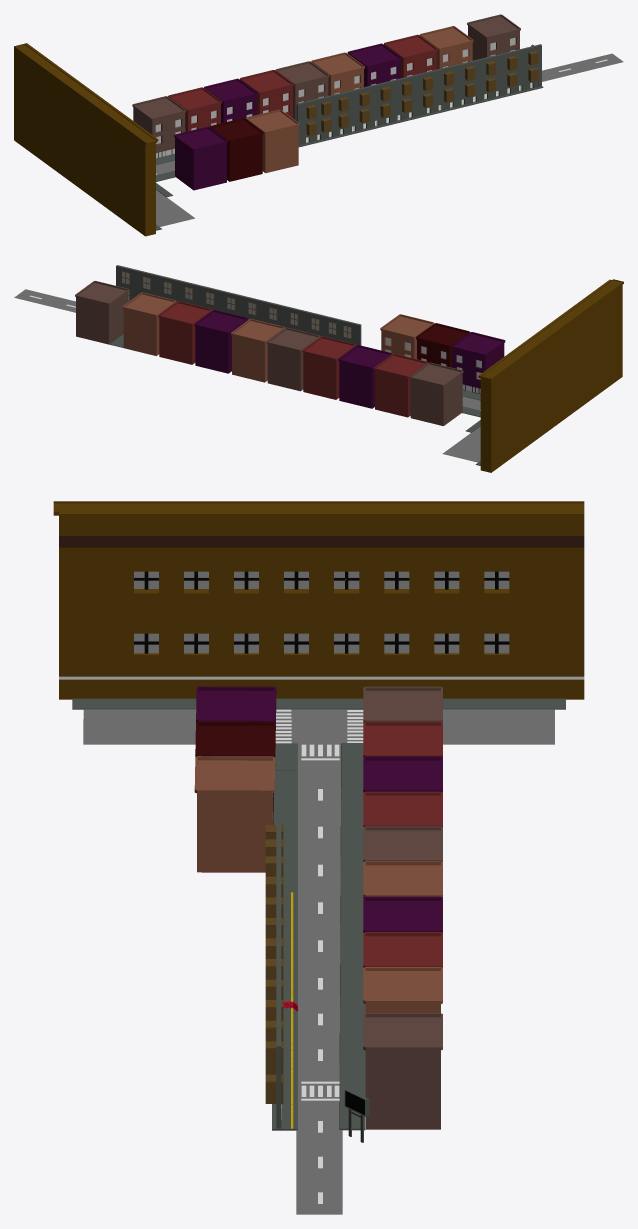
File: mainmenubuta.glb
The picture shows the model from 3 angles, top to bottom: view 1: azimuth 30°, elevation 25°; view 2: azimuth 150°, elevation 25°; view 3: azimuth 270°, elevation 25°; orthographic projection. The views are drawn at different scales.
Visible parts, largest first — view 1: Cube, Plane.002, Plane.008, Cube.052, Cube.056, Cube.054, Cube.042, Cube.030, Cube.039, Cube.038, Cube.040, Cube.041 (+6 smaller); view 2: Cube, Cube.042, Cube.030, Cube.036, Cube.039, Cube.032, Plane.008, Cube.050, Cube.038, Plane.002, Cube.037, Cube.040 (+6 smaller); view 3: Cube, Plane.007, Plane.010, Cube.030, Cube.056, Plane.003, Plane.009, Plane.013, Cube.050, Cube.054, Cube.052, Cube.036 (+13 smaller).
Boxes of the visible parts, x1,y1,x2,y2 form: Cube: [14, 43, 158, 236]; Plane.002: [418, 44, 541, 115]; Plane.008: [296, 74, 419, 145]; Cube.052: [174, 126, 227, 190]; Cube.056: [246, 109, 299, 173]; Cube.054: [210, 118, 263, 181]; Cube.042: [132, 96, 186, 158]; Cube.030: [467, 14, 520, 60]; Cube.039: [240, 70, 293, 118]; Cube.038: [275, 61, 329, 120]; Cube.040: [204, 78, 257, 123]; Cube.041: [168, 87, 221, 131]; Cube: [478, 279, 623, 472]; Cube.042: [409, 362, 463, 425]; Cube.030: [75, 281, 128, 344]; Cube.036: [194, 310, 248, 373]; Cube.039: [302, 336, 355, 399]; Cube.032: [158, 301, 211, 364]; Plane.008: [237, 295, 361, 345]; Cube.050: [122, 292, 176, 355]; Cube.038: [266, 327, 320, 391]; Plane.002: [116, 265, 239, 315]; Cube.037: [231, 319, 284, 382]; Cube.040: [338, 345, 391, 408]; Cube: [53, 501, 584, 699]; Plane.007: [296, 941, 342, 1214]; Plane.010: [83, 709, 554, 744]; Cube.030: [363, 1013, 442, 1129]; Cube.056: [194, 756, 275, 872]; Plane.003: [339, 769, 365, 1130]; Plane.009: [296, 742, 342, 941]; Plane.013: [72, 698, 565, 709]; Cube.050: [363, 967, 442, 1013]; Cube.054: [195, 721, 275, 824]; Cube.052: [196, 686, 276, 793]; Cube.036: [363, 896, 442, 932].
Bounding box in the file's own units: 1679 × 283 × 718.
